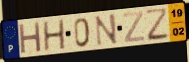0: (73, 17, 91, 48)
H: (18, 20, 43, 55), (42, 18, 67, 53)
N: (94, 13, 119, 48)
Z: (144, 6, 171, 42), (122, 10, 145, 44)
